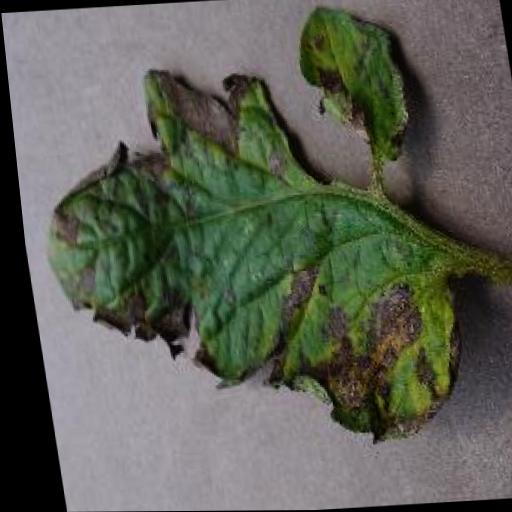Early Blight: (8, 0, 475, 455)
